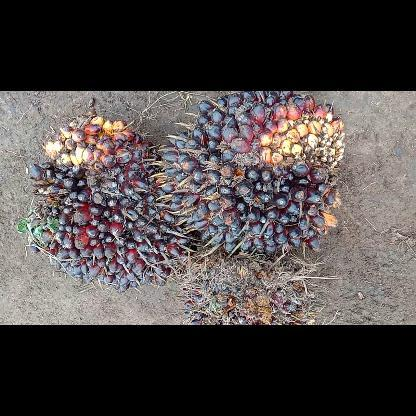TBS mentah: (160, 91, 348, 256), (27, 112, 198, 290), (180, 250, 322, 324)
